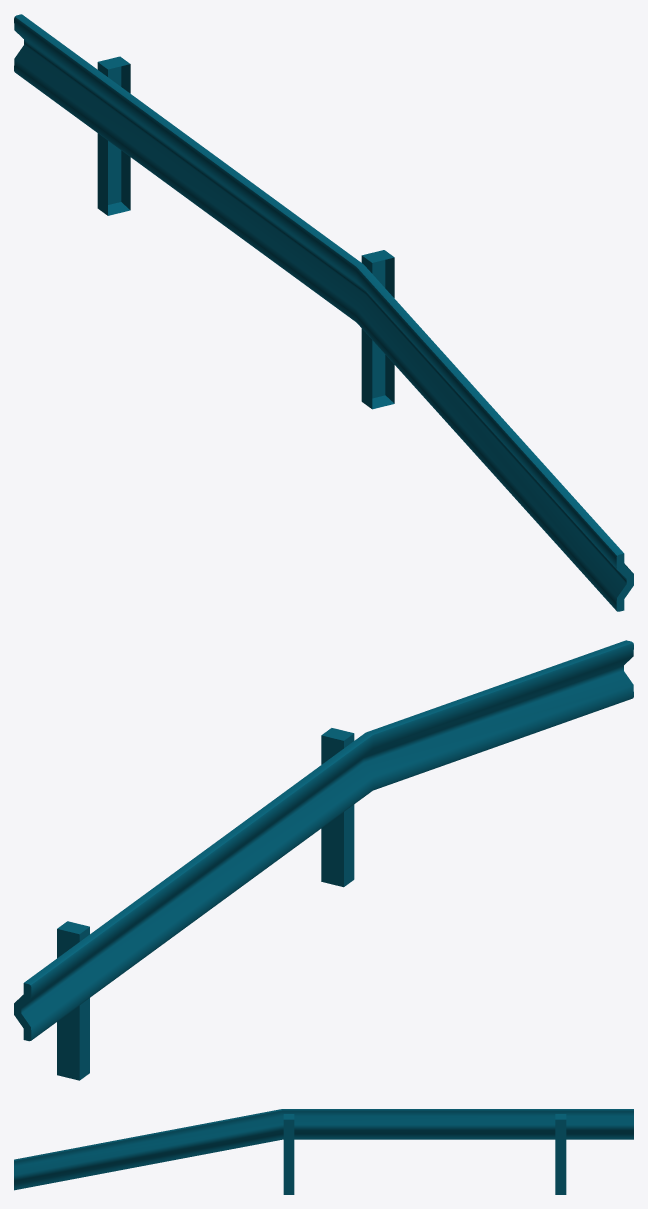
File: Prop_GuardRailBroken.FBX
3 views of the same model, one above another, from view 1: azimuth 30°, elevation 25°; view 2: azimuth 150°, elevation 25°; view 3: azimuth 270°, elevation 25° (orthographic). The views are drawn at different scales.
Visible parts, largest first — view 1: GuardRailBroken; view 2: GuardRailBroken; view 3: GuardRailBroken.
Part boxes in pixels (x1,y1,x2,y2): GuardRailBroken: (14,14,633,611); GuardRailBroken: (14,640,633,1080); GuardRailBroken: (14,1109,633,1194).
Bounding box in the file's own units: 15.37 × 56.66 × 398.
